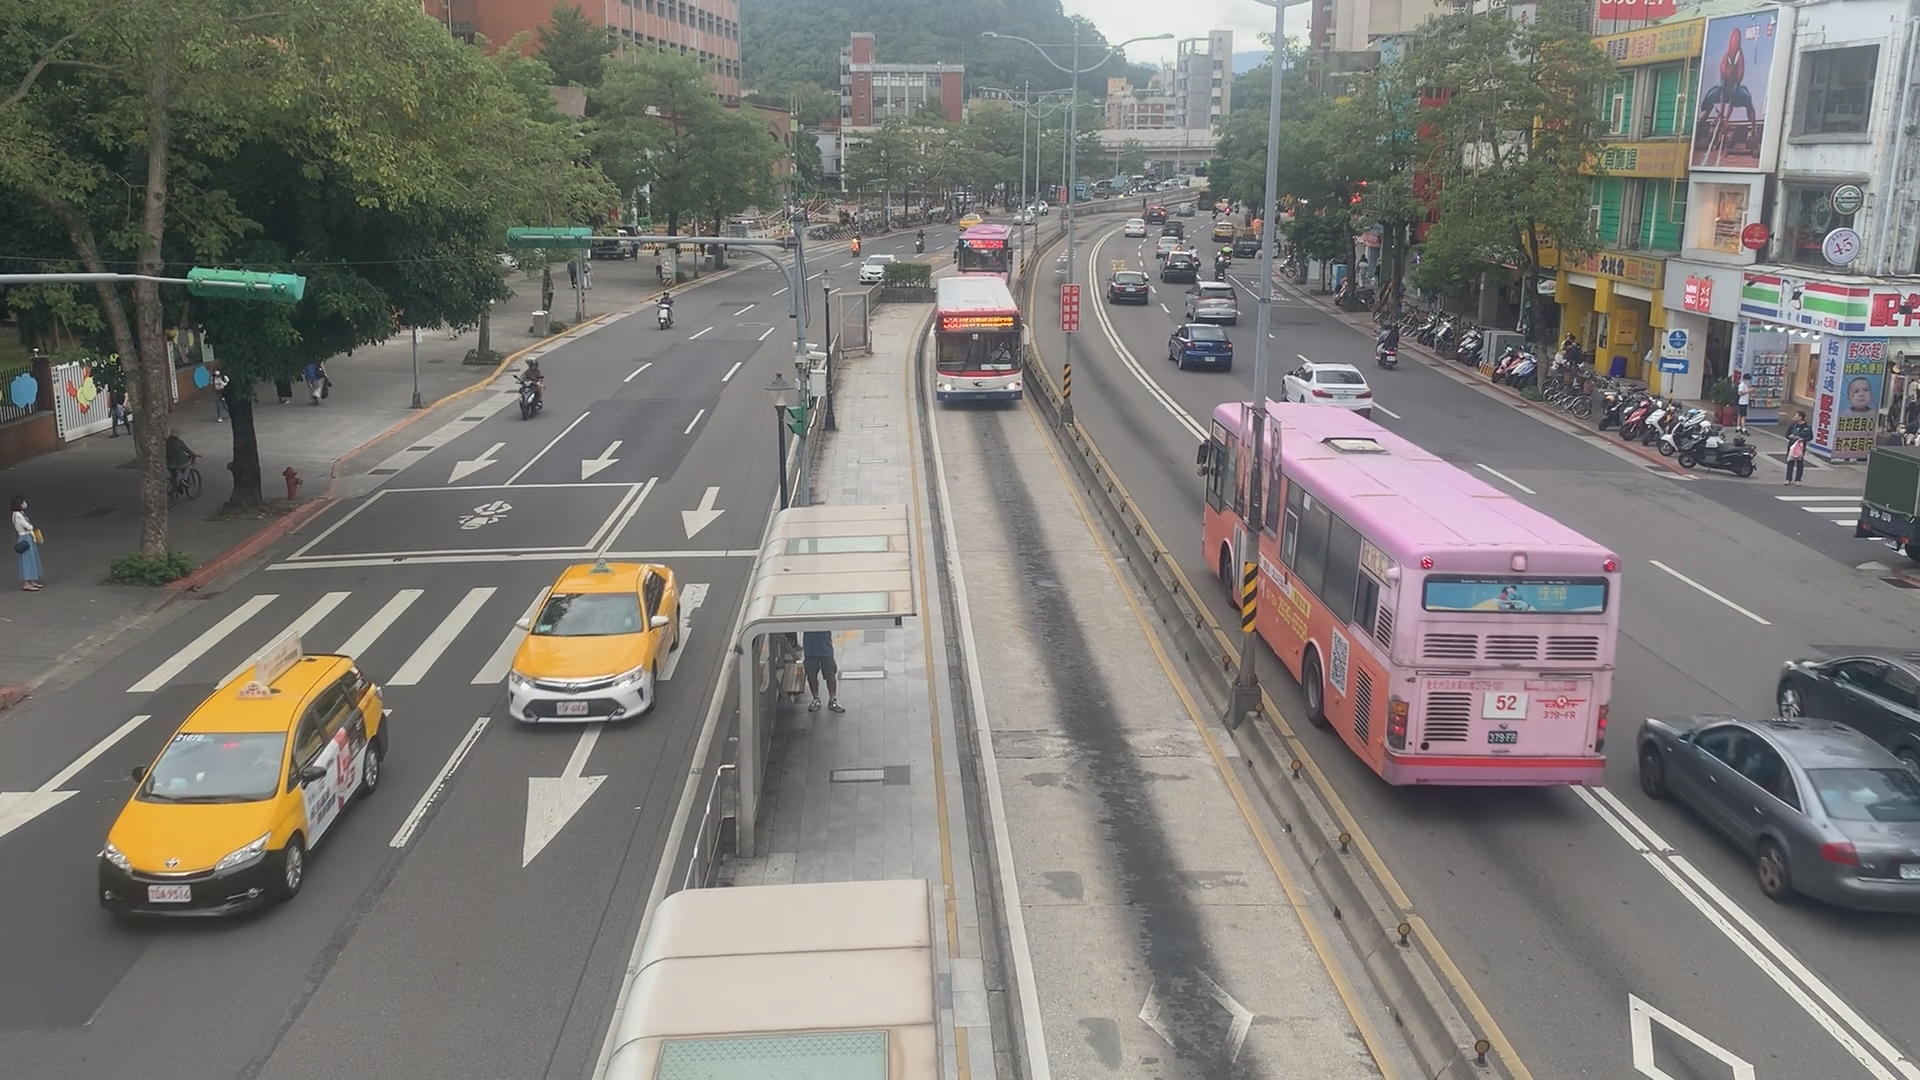Bus: (1193, 404, 1633, 806), (928, 277, 1030, 404), (952, 224, 1014, 287)
Business Passenger Car: (100, 651, 372, 934), (502, 562, 682, 729)
Motorcycle: (512, 356, 543, 415), (1374, 322, 1400, 365), (655, 287, 676, 327), (1211, 253, 1232, 287), (911, 225, 931, 253)
Private Passenger Car: (1643, 713, 1920, 907), (1776, 638, 1920, 781), (1278, 356, 1382, 425), (1171, 320, 1234, 376), (1185, 280, 1240, 323), (852, 251, 894, 284), (1105, 272, 1149, 303), (1162, 253, 1196, 285), (1122, 216, 1143, 243), (1158, 236, 1180, 258)
